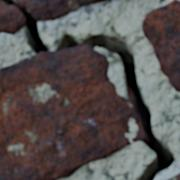brick: (0, 47, 144, 179), (143, 0, 179, 91)
broken_brick: (20, 0, 106, 22), (0, 2, 24, 34), (165, 171, 179, 179)
crack: (0, 0, 177, 179)
